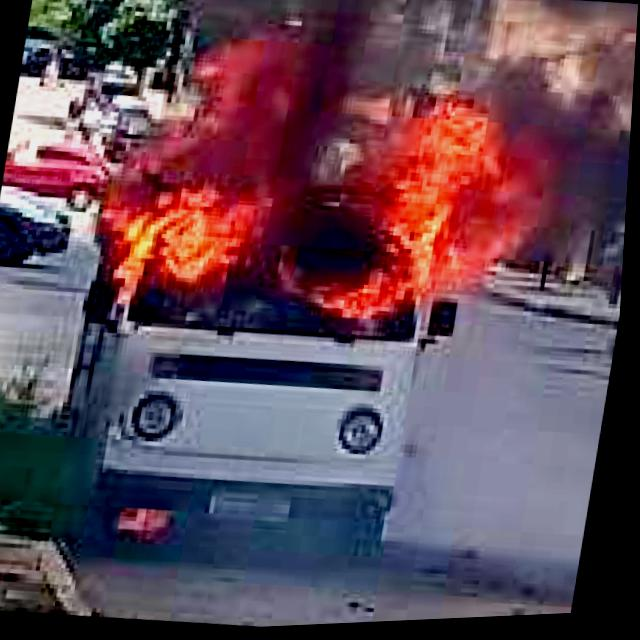smoke: (419, 0, 639, 317), (109, 0, 421, 205)
